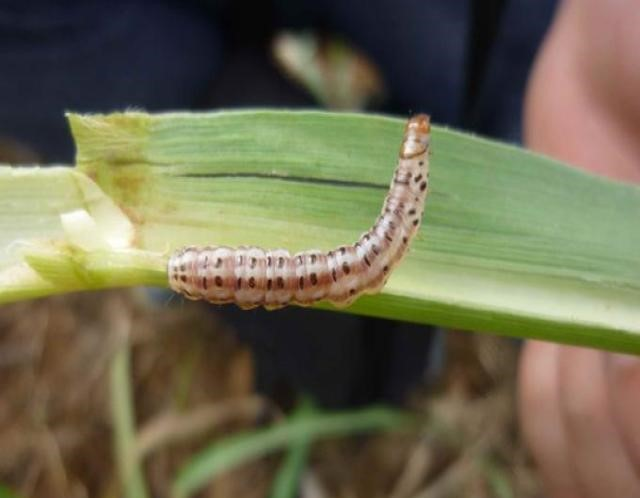yellow-stem-borer-larva: (133, 109, 496, 319)
